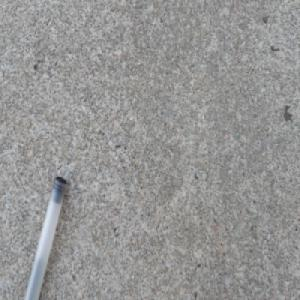Pen: (21, 173, 68, 300)
